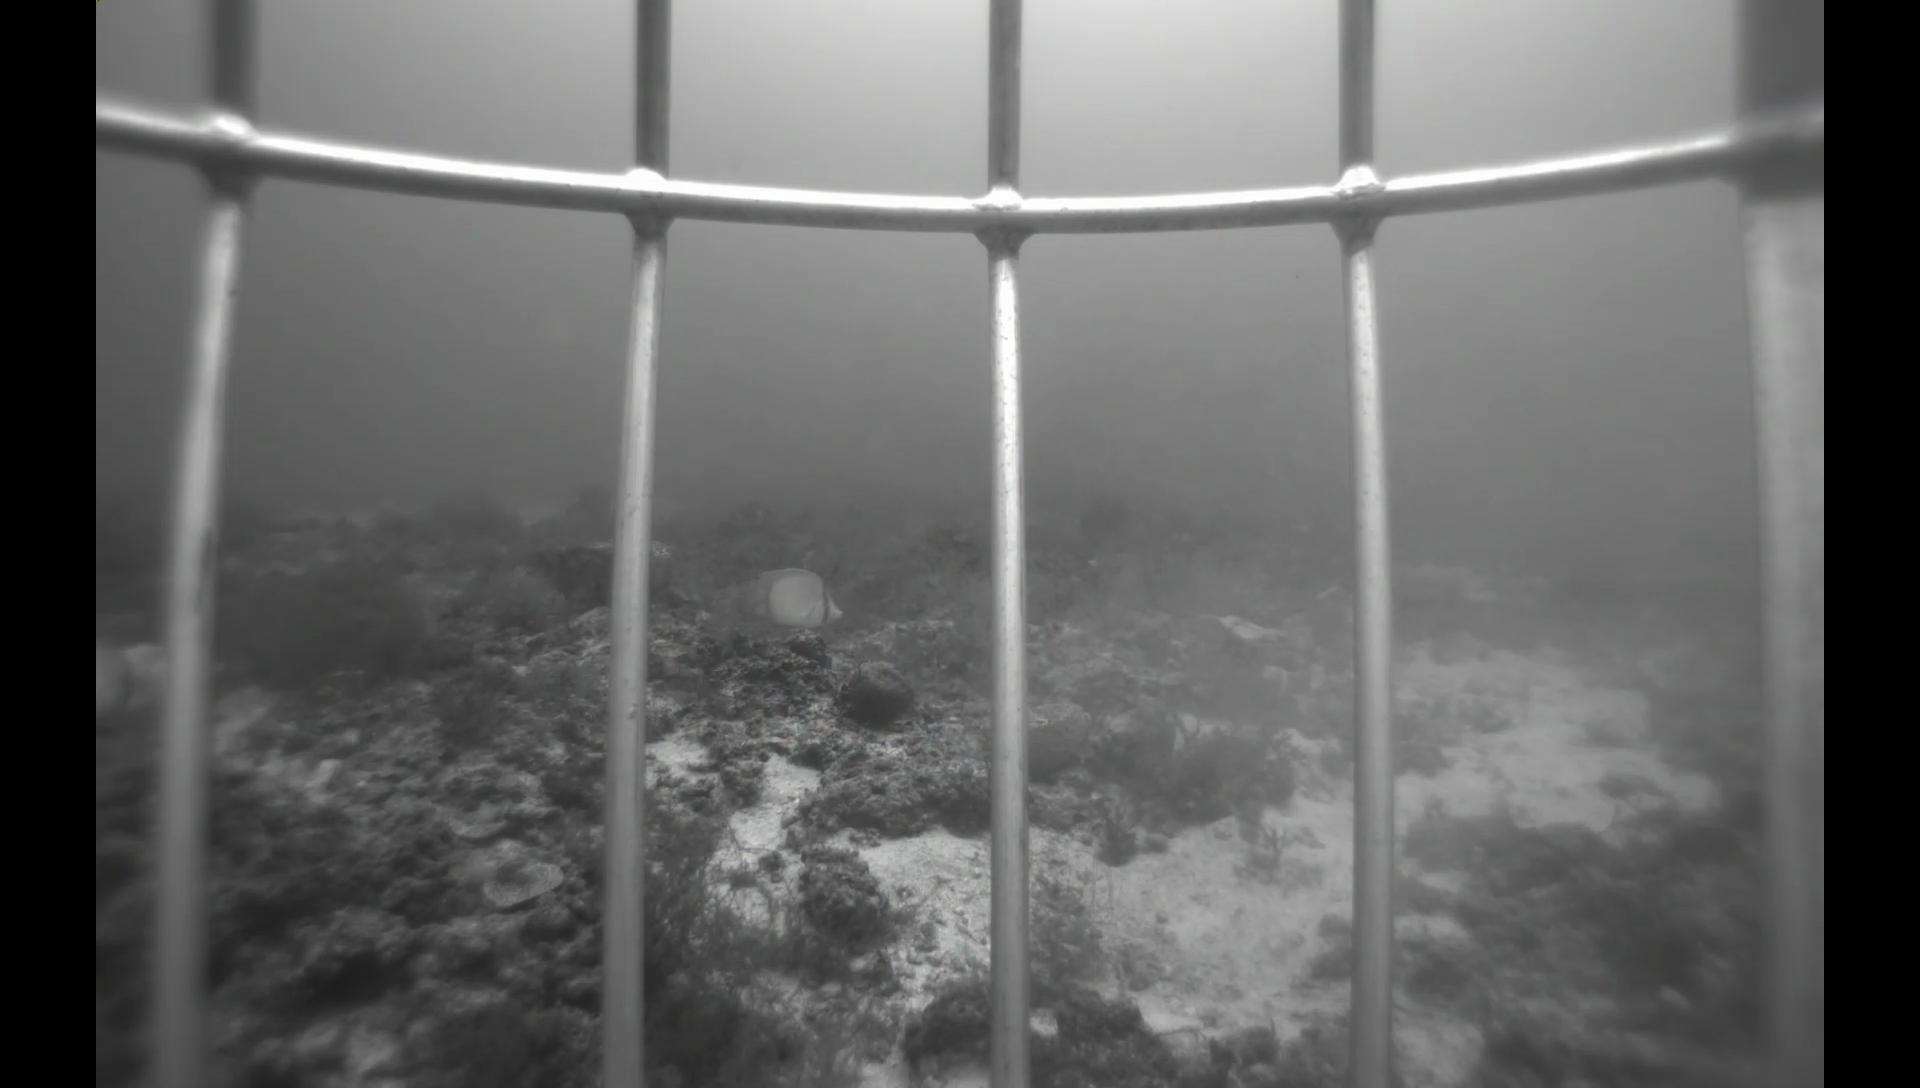CHAETODONOCELLATUS-170260307: (728, 563, 847, 636), (95, 636, 149, 733)
MYCTEROPERCAPHENAX-170022105: (943, 493, 992, 551)
